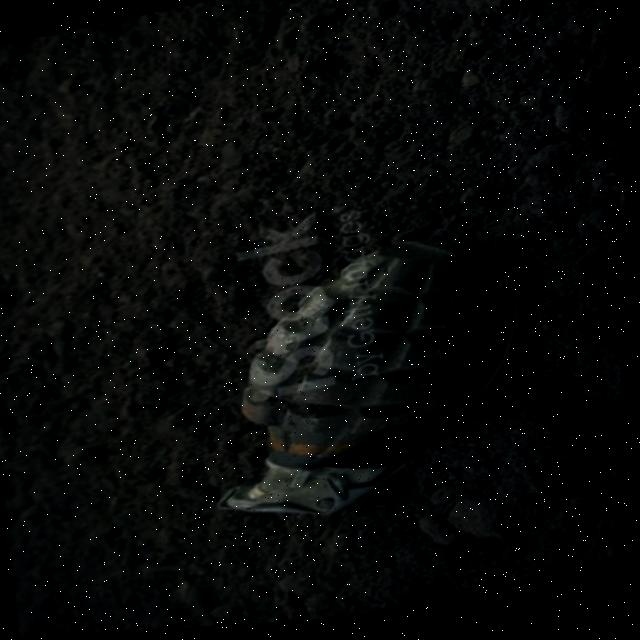grenade: (175, 212, 566, 547)
